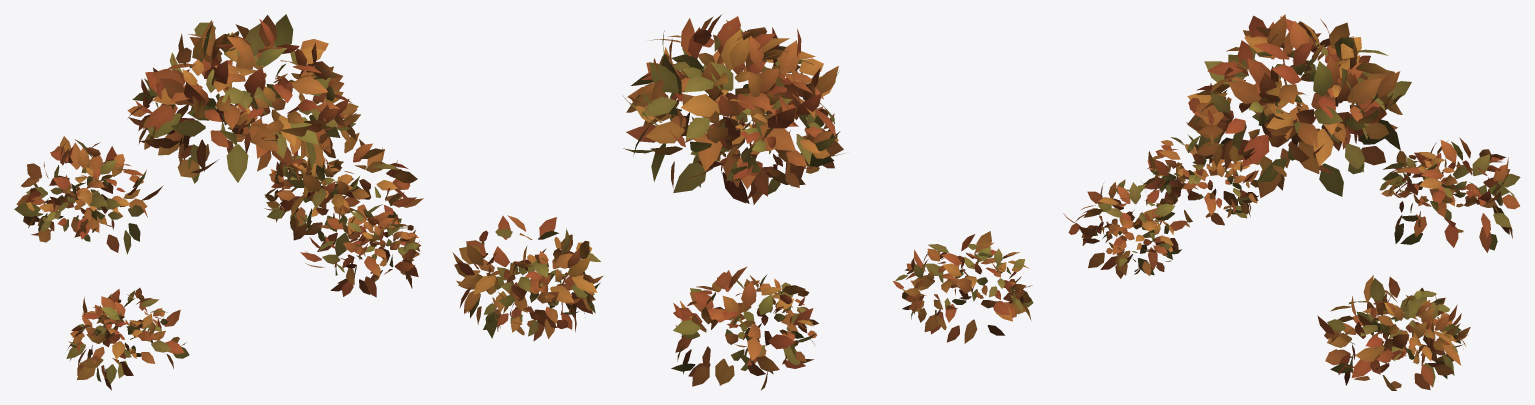
Rendered from Night_LeavesMino.fbx.
3 views of the same model, side by side, from view 1: azimuth 30°, elevation 25°; view 2: azimuth 150°, elevation 25°; view 3: azimuth 270°, elevation 25° (orthographic). The views are drawn at different scales.
Visible parts, largest first — view 1: Night_LeavesMino; view 2: Night_LeavesMino; view 3: Night_LeavesMino.
Boxes of the visible parts, x1,y1,x2,y2 form: Night_LeavesMino: (14,14,423,390); Night_LeavesMino: (452,14,1033,390); Night_LeavesMino: (1063,14,1520,390).
Size of the model in its own units: 24.91 by 15.46 by 22.33.
